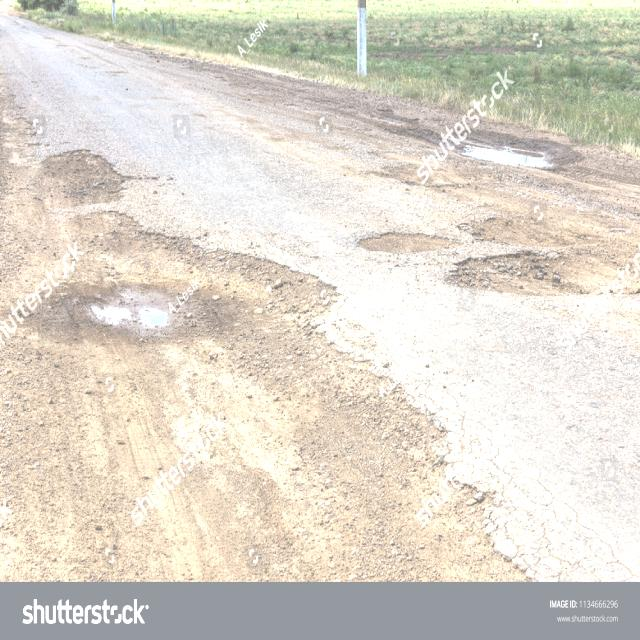Pothole: (0, 94, 539, 583), (357, 206, 640, 300), (37, 264, 245, 354), (432, 107, 584, 180)
